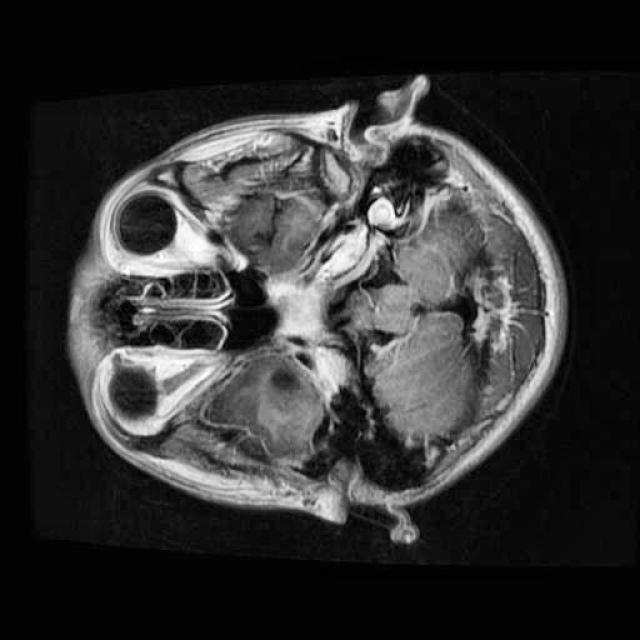Tumor: (256, 353, 310, 413)
